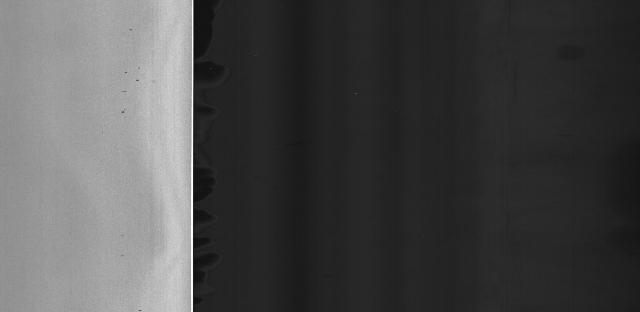inclusion: (123, 63, 144, 85), (119, 105, 133, 119), (125, 24, 136, 39)
